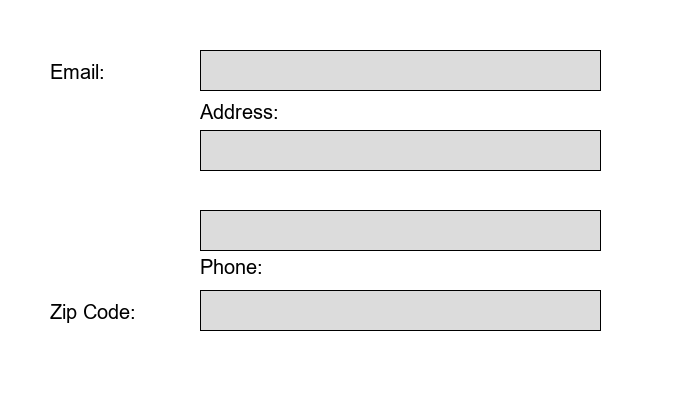Label: (50, 300, 130, 319), (200, 100, 274, 115), (200, 255, 257, 270), (50, 60, 99, 75)
Textbox: (200, 50, 600, 90), (200, 130, 600, 170), (200, 210, 600, 250), (200, 290, 600, 330)
